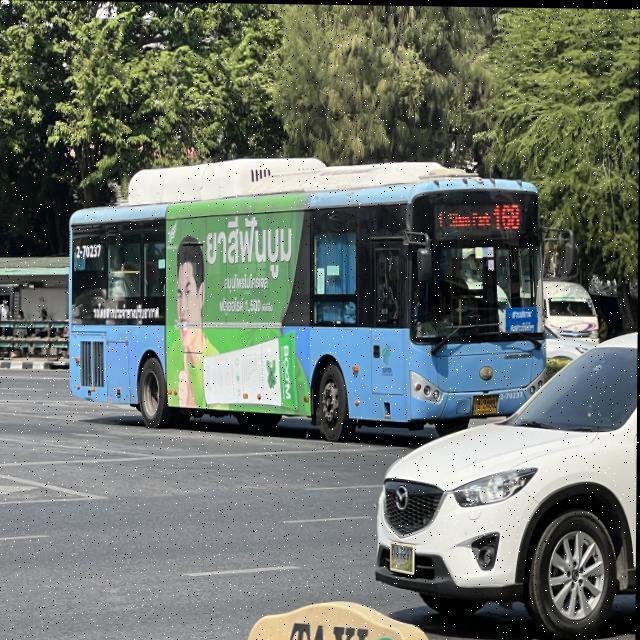BMTA-bus: (67, 158, 549, 442)
Bus Line Number: (491, 198, 524, 231)
Bus Side Number: (71, 242, 108, 260), (500, 388, 525, 401)
Destination Sign: (505, 304, 538, 333)
